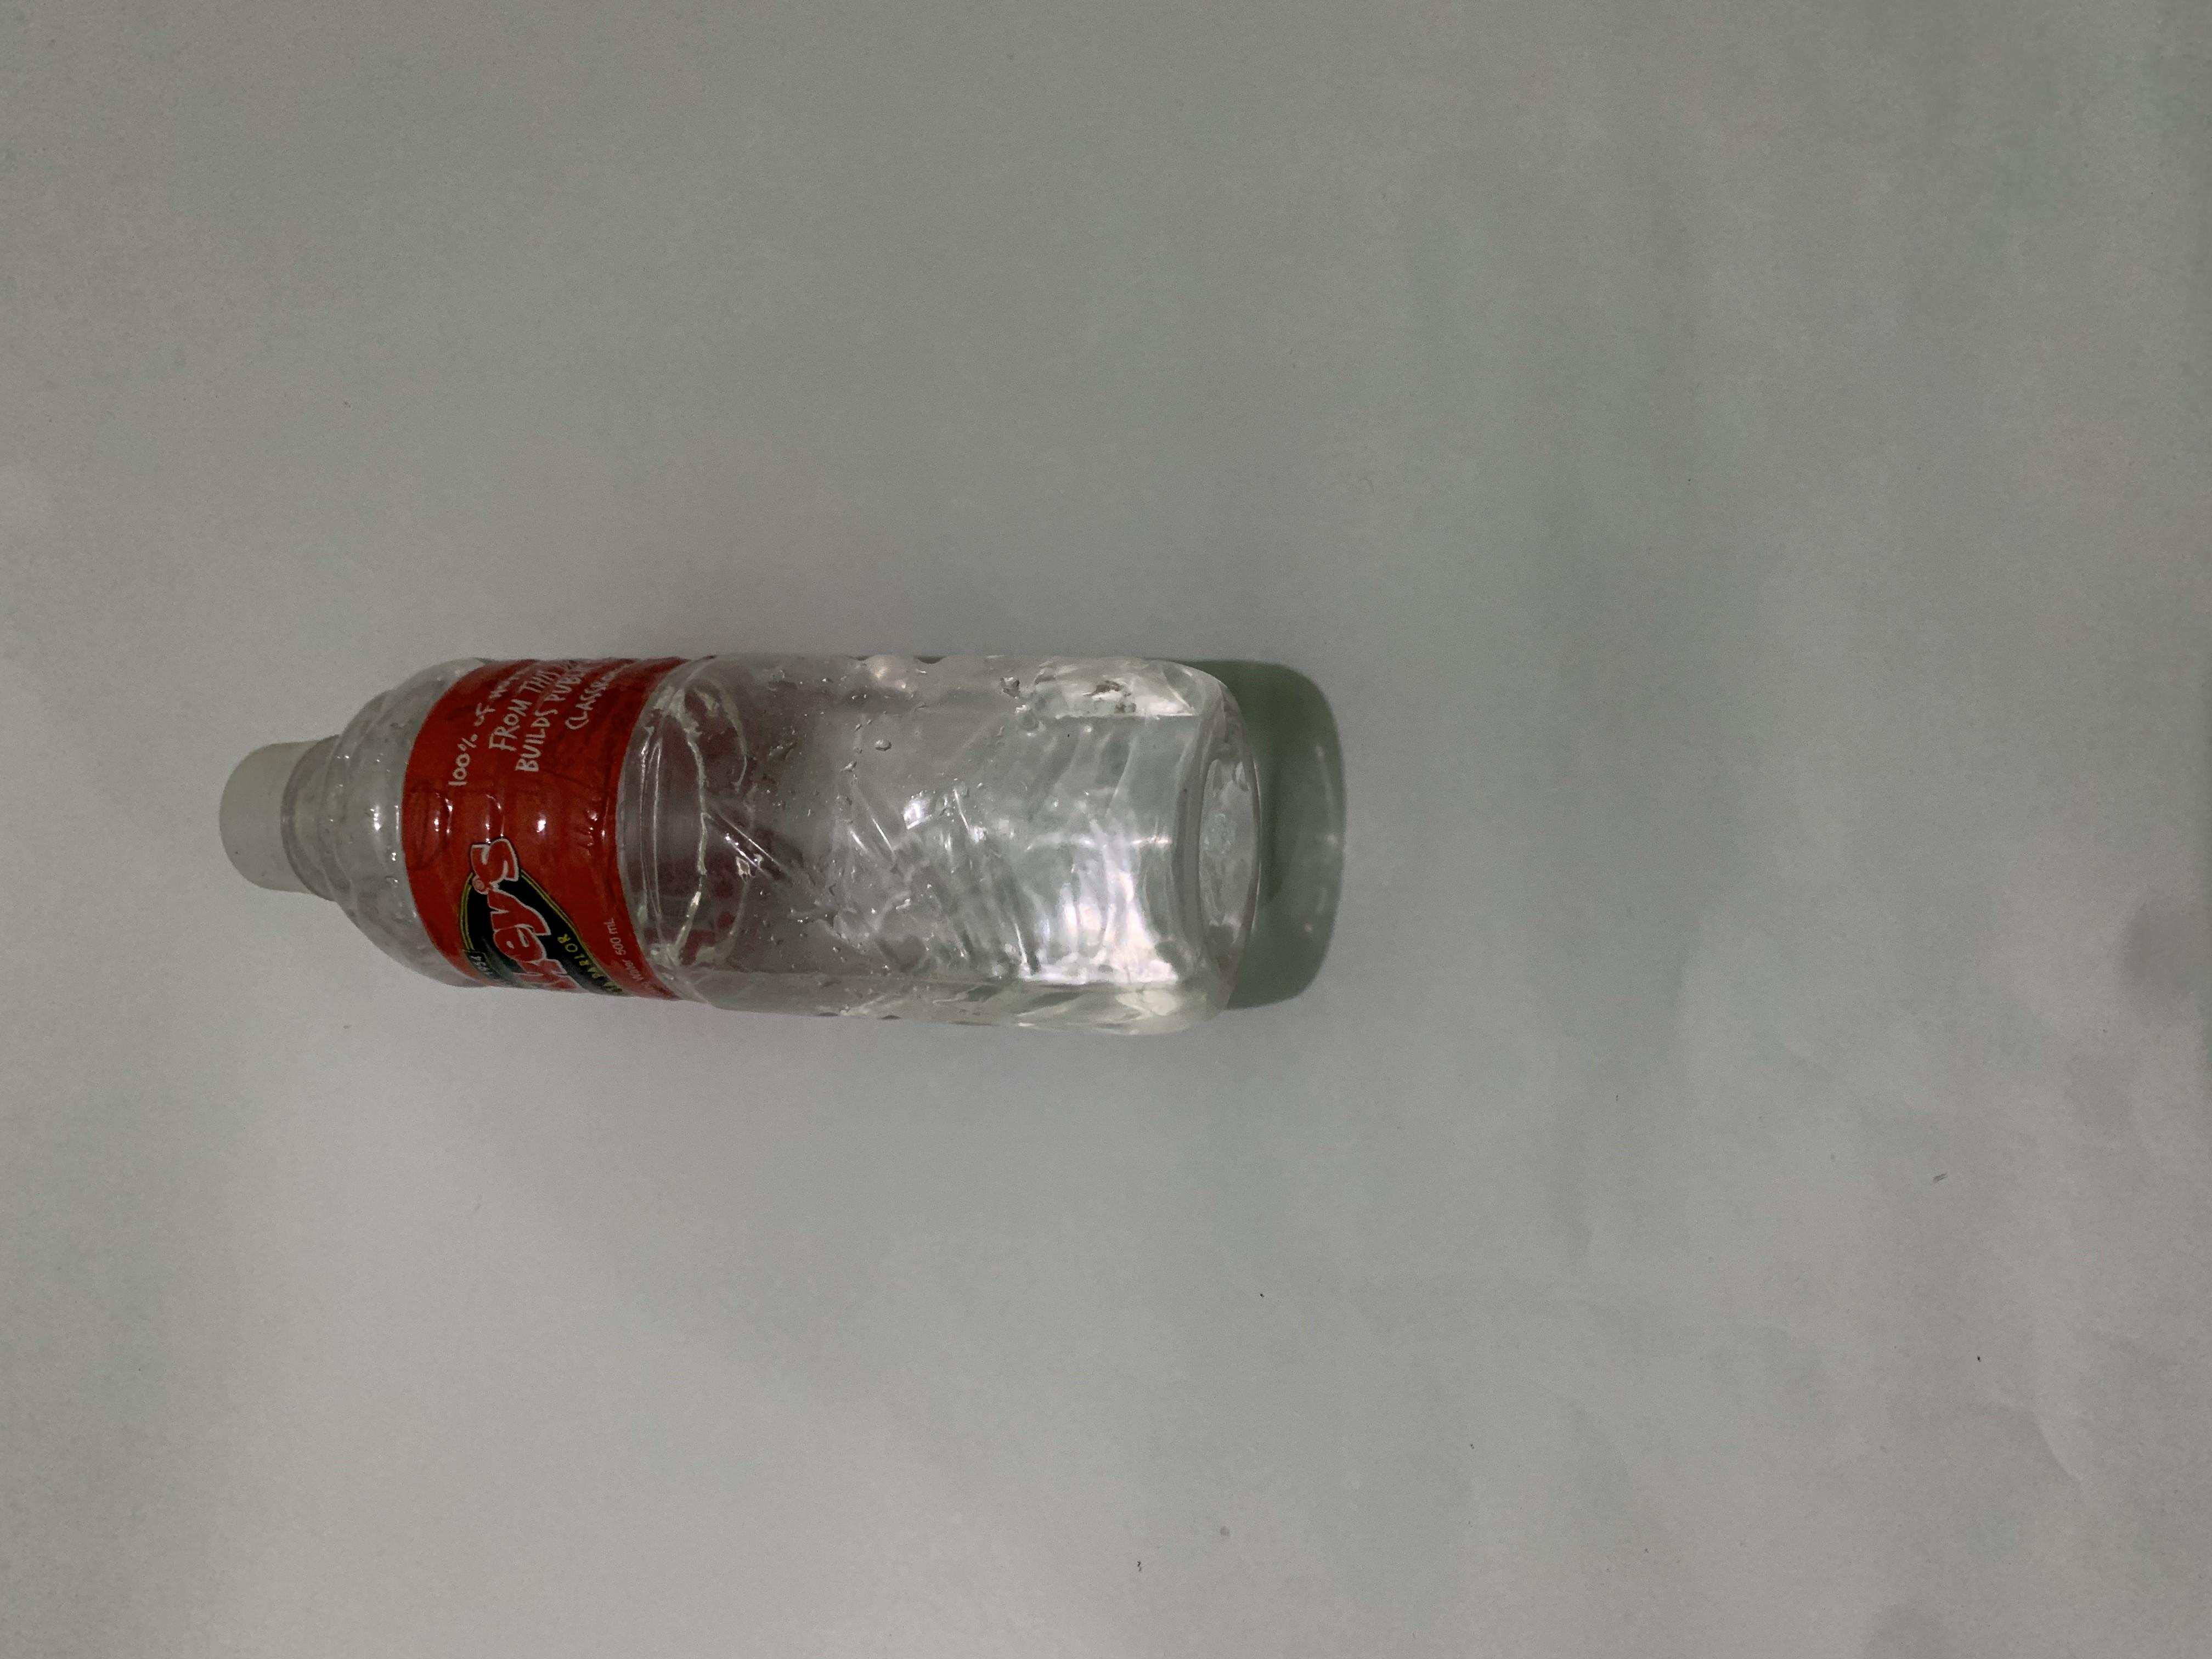bottle: (819, 157, 1367, 958)
